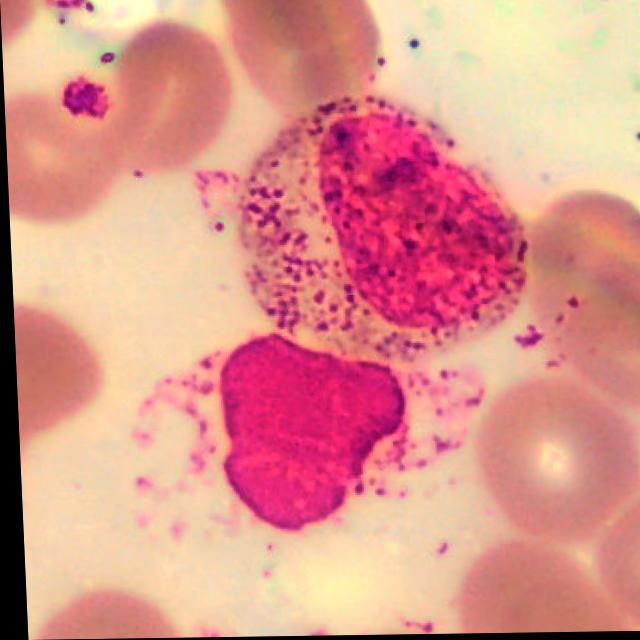Promielocito: (241, 100, 526, 360)
